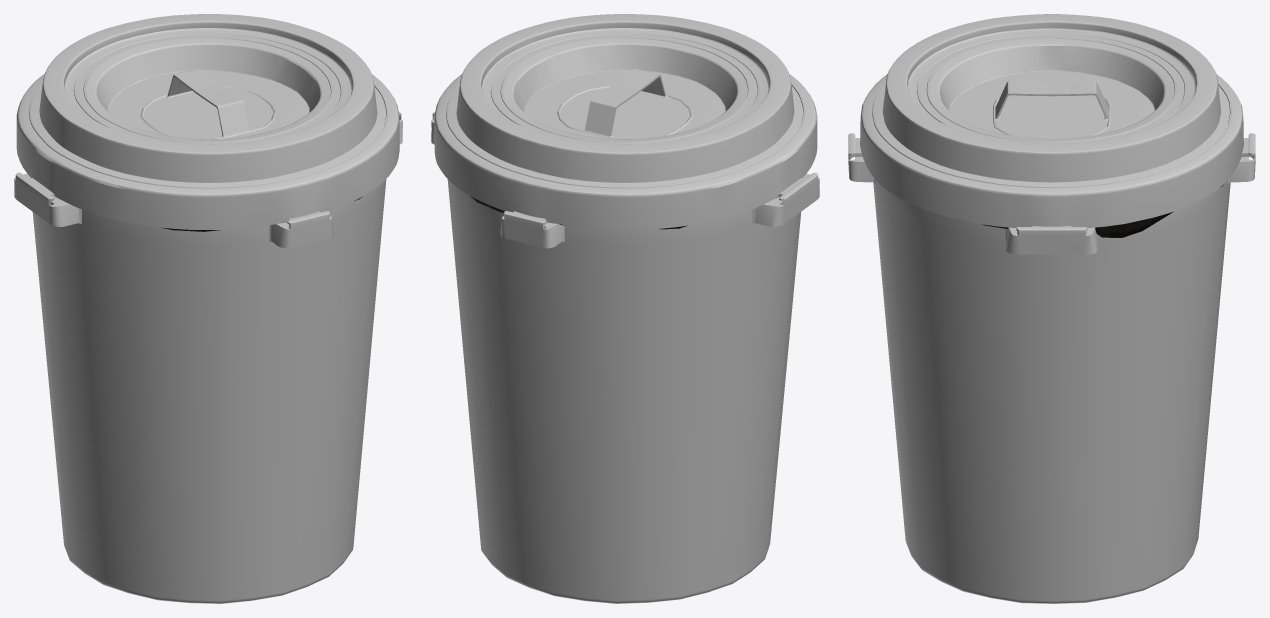
File: TrashBin.fbx
3 renders of one model, left to right at view 1: azimuth 30°, elevation 25°; view 2: azimuth 150°, elevation 25°; view 3: azimuth 270°, elevation 25°, orthographic.
Parts seen in each view (by area): view 1: TrashBin_Bin, TrashBin_Cap; view 2: TrashBin_Bin, TrashBin_Cap; view 3: TrashBin_Bin, TrashBin_Cap, Plastic_Trash.
Part boxes in pixels (bbox=[...]): TrashBin_Bin: bbox=[14, 112, 402, 603]; TrashBin_Cap: bbox=[16, 14, 399, 229]; TrashBin_Bin: bbox=[431, 112, 819, 603]; TrashBin_Cap: bbox=[434, 14, 817, 229]; TrashBin_Bin: bbox=[848, 133, 1255, 603]; TrashBin_Cap: bbox=[851, 14, 1252, 227]; Plastic_Trash: bbox=[982, 184, 1223, 237].
Bounding box in the file's own units: 43.21 × 53.92 × 43.21.
